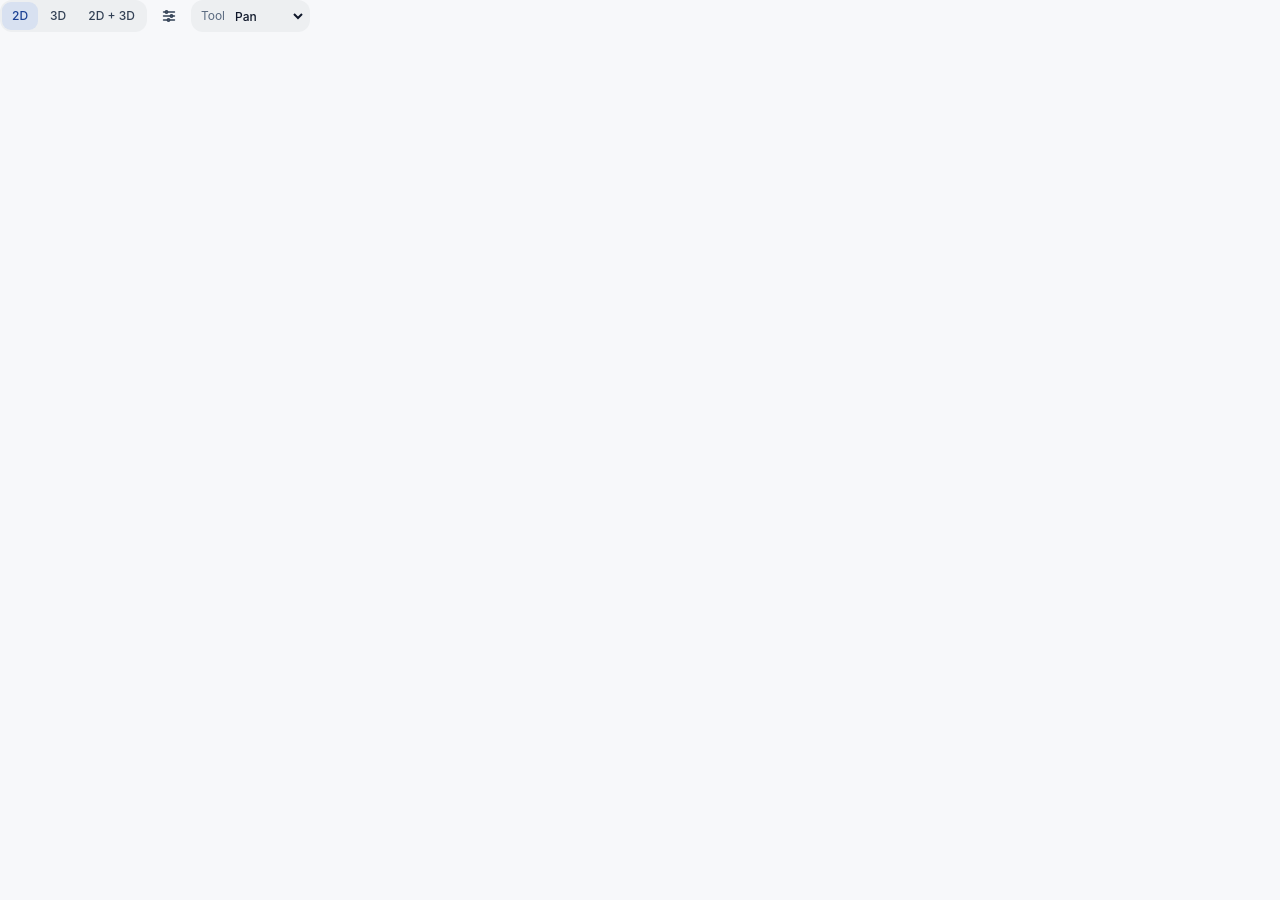
view control semantics › hides 3D Base and layout in 2D-only mode
What coordinates should you click on to do the following:
click the button named "View options"
I would click on:
 (169, 16)
Its box is 153,0 -> 185,32.
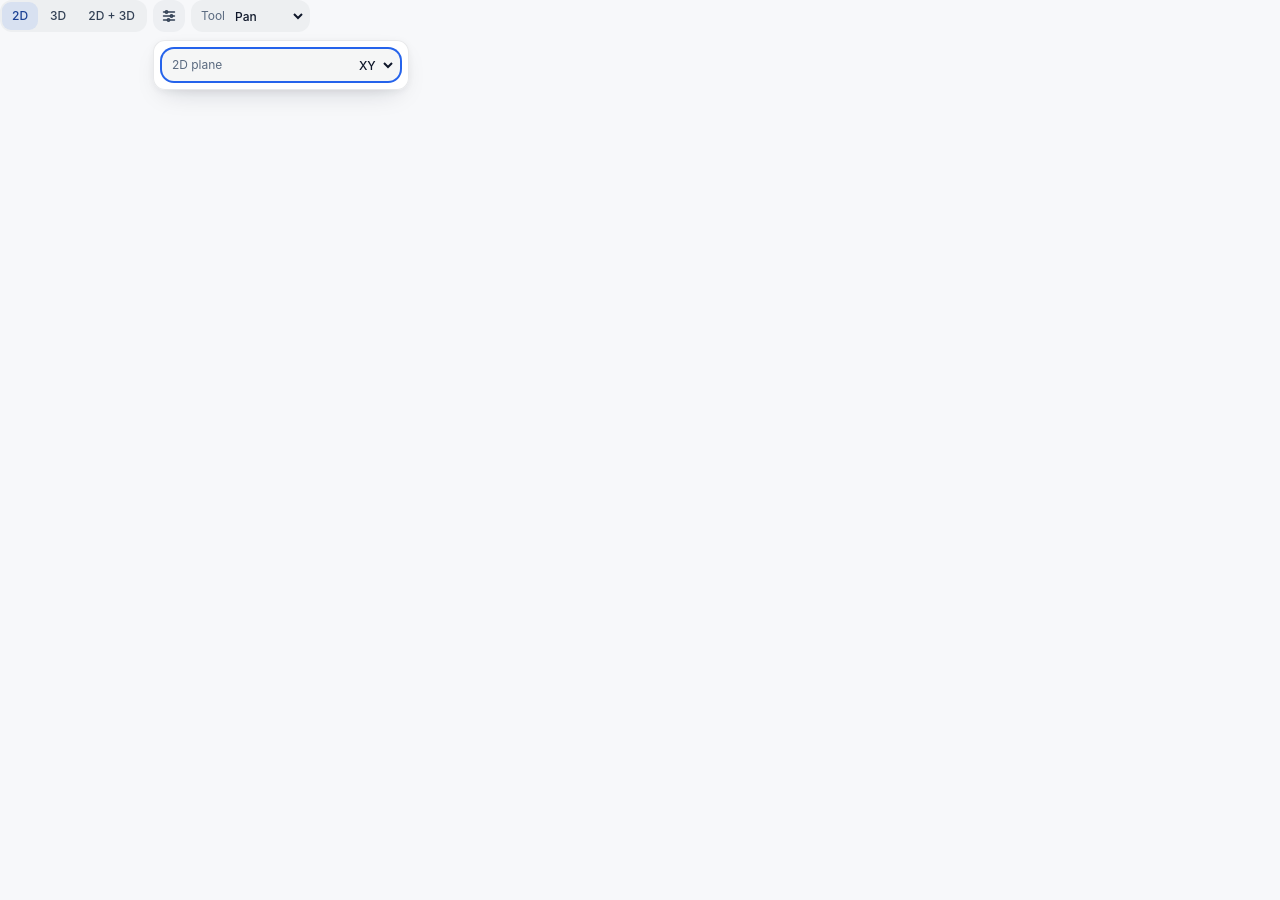
Now the dropdown with test id "toolbar-2d-plane-select" is shown, box 353,51 -> 396,79
